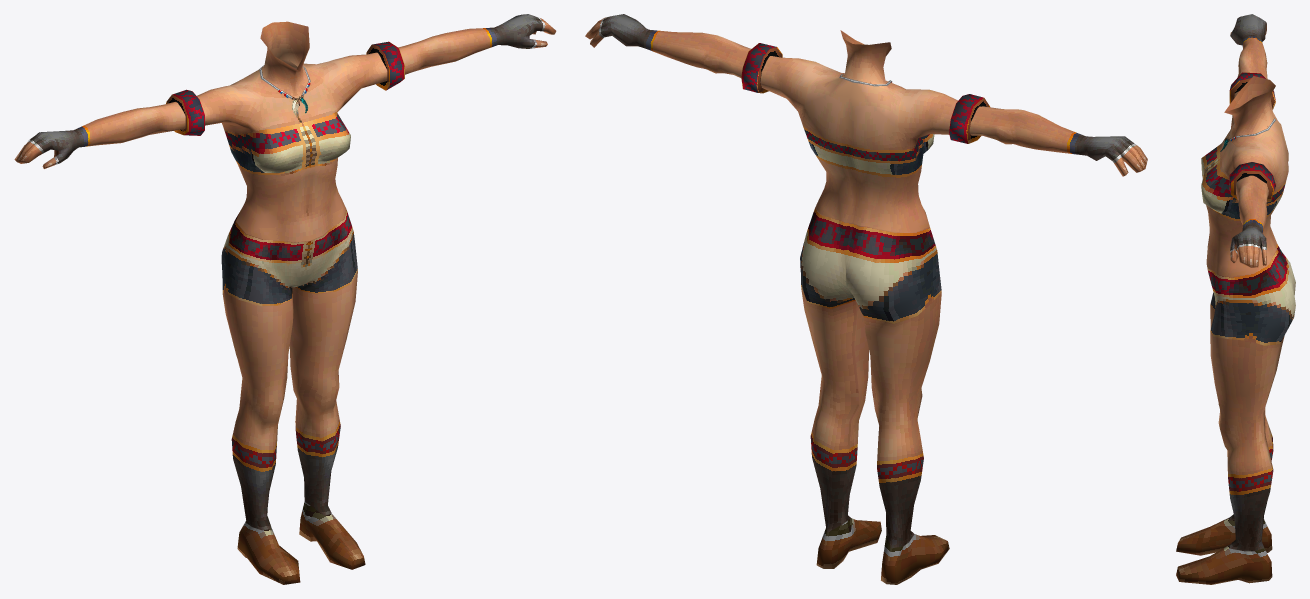
Rendered from f_body004.obj.
The picture shows the model from 3 angles, left to right: view 1: azimuth 30°, elevation 25°; view 2: azimuth 150°, elevation 25°; view 3: azimuth 270°, elevation 25°; orthographic projection. The views are drawn at different scales.
Visible parts, largest first — view 1: editpl_f-0000-38, editpl_f-0000-37, editpl_f-0000-36; view 2: editpl_f-0000-38, editpl_f-0000-37, editpl_f-0000-36; view 3: editpl_f-0000-38, editpl_f-0000-37, editpl_f-0000-36.
Part boxes in pixels (box(x1,y1,x2,y2)): editpl_f-0000-38: box(221, 210, 365, 584); editpl_f-0000-37: box(197, 21, 387, 242); editpl_f-0000-36: box(14, 14, 556, 168); editpl_f-0000-38: box(800, 208, 949, 584); editpl_f-0000-37: box(760, 30, 957, 232); editpl_f-0000-36: box(585, 14, 1147, 176); editpl_f-0000-38: box(1176, 244, 1295, 584); editpl_f-0000-37: box(1201, 76, 1288, 277); editpl_f-0000-36: box(1229, 14, 1275, 267).
Bounding box in the file's own units: 173 × 159 × 36.08.
3 materials, 3 textured.
